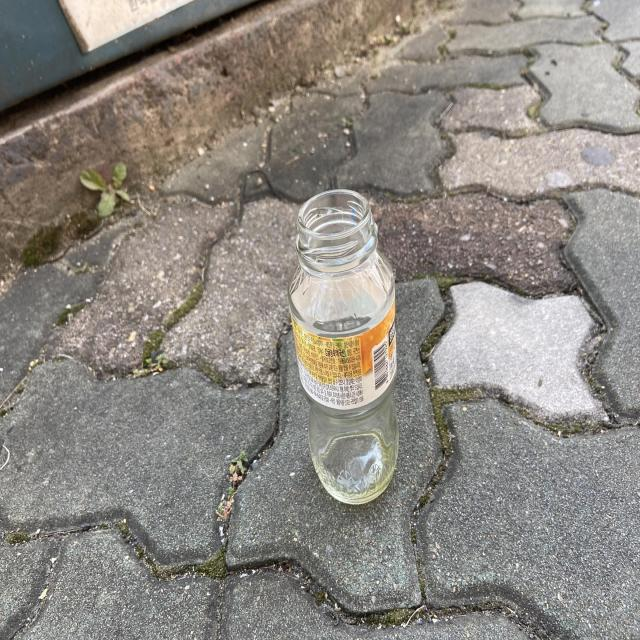glass: (288, 189, 398, 504)
